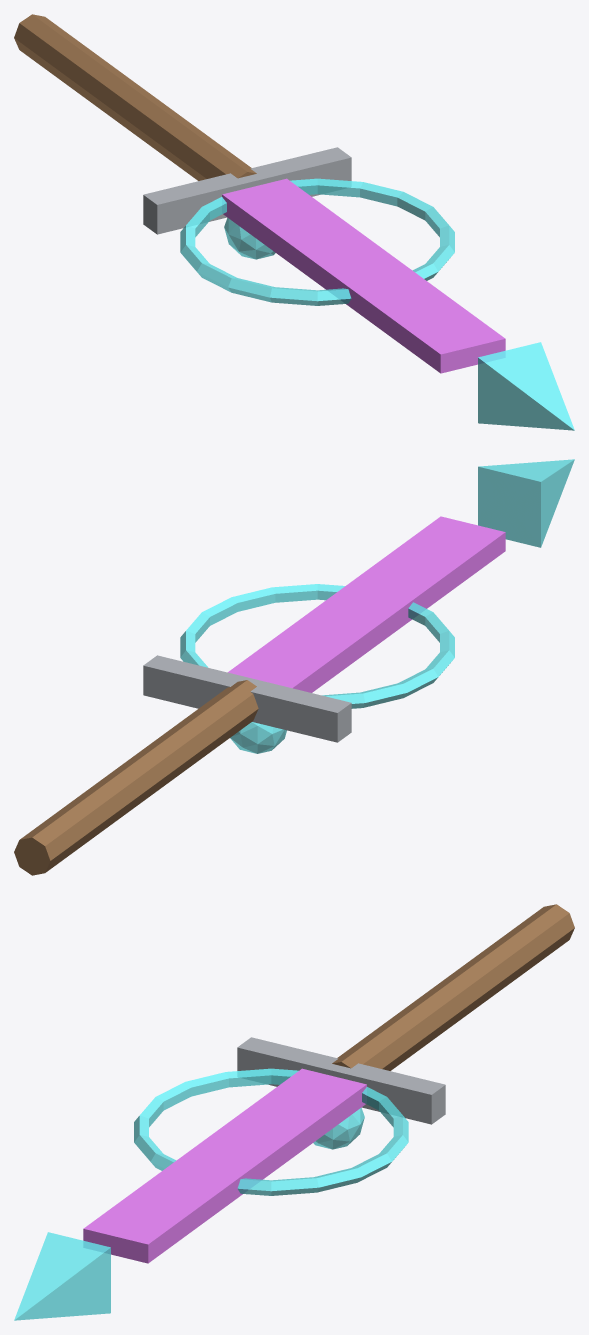
File: 03_magic_weapon_upgrade.glb
The picture shows the model from 3 angles, top to bottom: view 1: azimuth 30°, elevation 25°; view 2: azimuth 150°, elevation 25°; view 3: azimuth 330°, elevation 25°; orthographic projection.
Parts seen in each view (by area): view 1: enchanted_blade_or_focus, weapon_handle, rune_orbit, weapon_guard, weapon_tip, gem_socket; view 2: enchanted_blade_or_focus, weapon_handle, weapon_guard, weapon_tip, rune_orbit, gem_socket; view 3: enchanted_blade_or_focus, weapon_handle, rune_orbit, weapon_guard, weapon_tip, gem_socket.
Boxes of the visible parts, x1,y1,x2,y2 form: enchanted_blade_or_focus: (222,178,505,373); weapon_handle: (14,14,256,180); rune_orbit: (180,178,454,305); weapon_guard: (143,147,351,234); weapon_tip: (478,342,574,430); gem_socket: (224,217,275,259); enchanted_blade_or_focus: (228,516,505,692); weapon_handle: (14,680,258,875); weapon_guard: (143,655,351,742); weapon_tip: (478,459,574,547); rune_orbit: (180,584,454,708); gem_socket: (230,722,286,753); enchanted_blade_or_focus: (83,1068,366,1263); weapon_handle: (332,904,574,1070); rune_orbit: (134,1068,408,1195); weapon_guard: (237,1037,445,1124); weapon_tip: (14,1232,110,1320); gem_socket: (313,1107,364,1149).
Size of the model in its own units: 0.596 by 0.2178 by 2.32.
